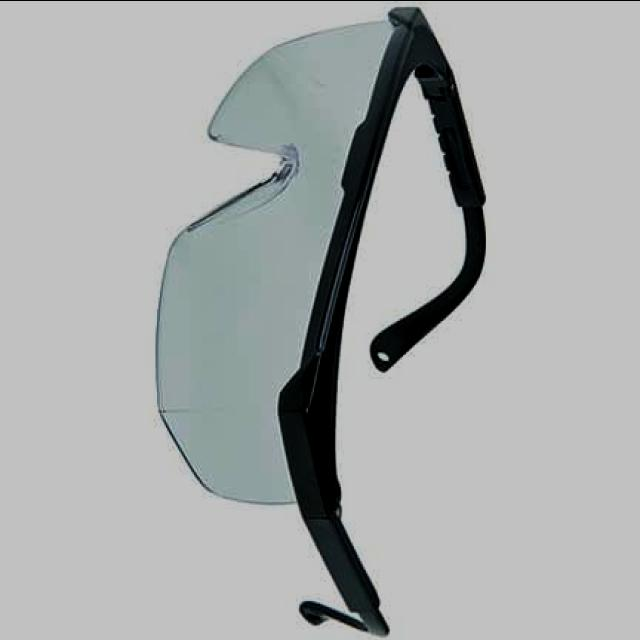Safety Glasses: (148, 20, 494, 638)
